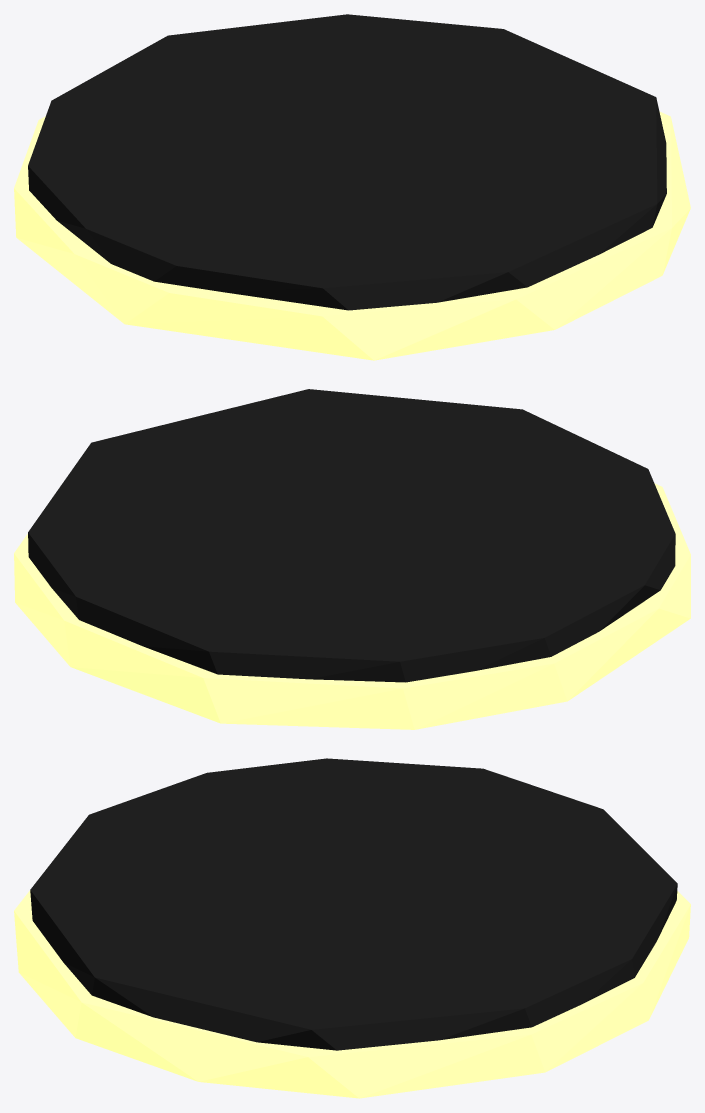
Rendered from movingdjdisk.glb.
The picture shows the model from 3 angles, top to bottom: view 1: azimuth 30°, elevation 25°; view 2: azimuth 150°, elevation 25°; view 3: azimuth 270°, elevation 25°; orthographic projection.
Visible parts, largest first — view 1: disc1 moving; view 2: disc1 moving; view 3: disc1 moving.
Part boxes in pixels (<box>): disc1 moving: <box>14,14,690,360</box>; disc1 moving: <box>14,389,690,729</box>; disc1 moving: <box>14,758,690,1098</box>.
Size of the model in its own units: 0.3974 by 0.0411 by 0.4006.
